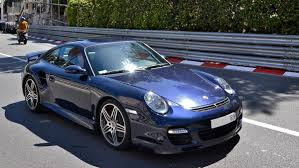car: (20, 36, 250, 158)
